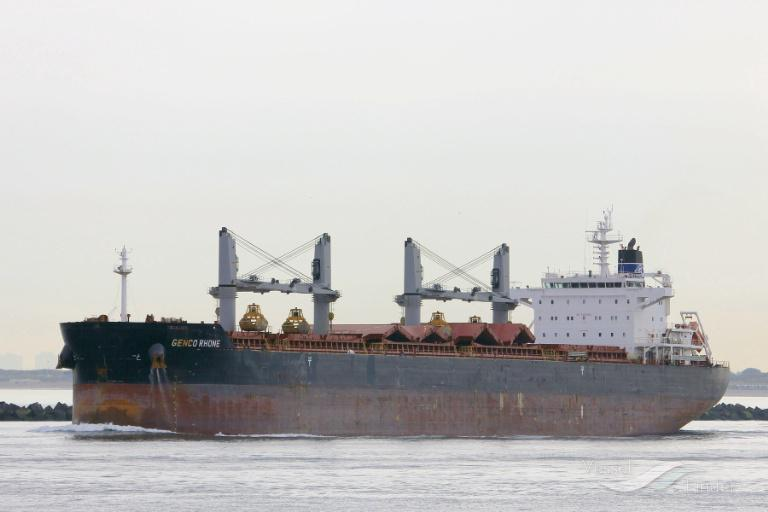OCR: (164, 328, 224, 356)
